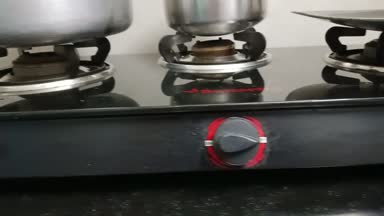flame_gas_off: (157, 25, 287, 177)
